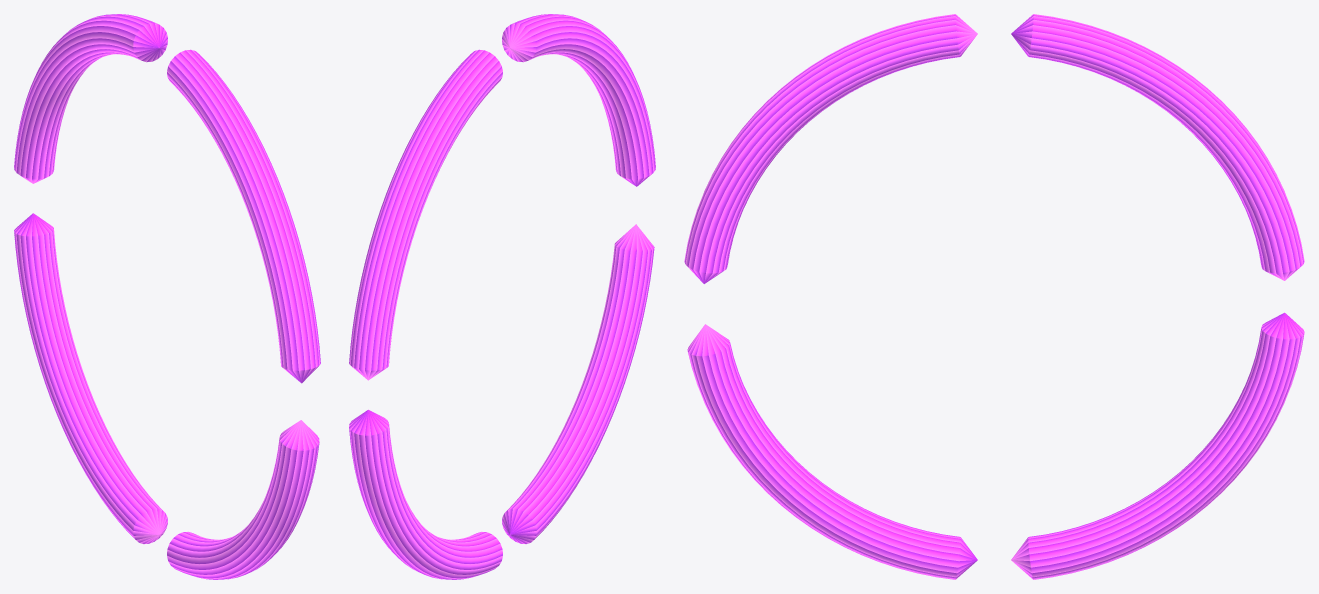
Rendered from Ring15.gltf.
3 views of the same model, side by side, from view 1: azimuth 30°, elevation 25°; view 2: azimuth 150°, elevation 25°; view 3: azimuth 270°, elevation 25° (orthographic). The views are drawn at different scales.
Visible parts, largest first — view 1: Object 4; view 2: Object 4; view 3: Object 4.
Boxes of the visible parts, x1,y1,x2,y2 form: Object 4: (14, 14, 320, 579); Object 4: (349, 14, 655, 579); Object 4: (684, 14, 1304, 579).
Size of the model in its own units: 0.006 by 0.0853 by 0.0853.
Materials: 1 (1 with a texture image).
